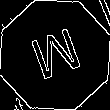M_S: (25, 24, 85, 86)
